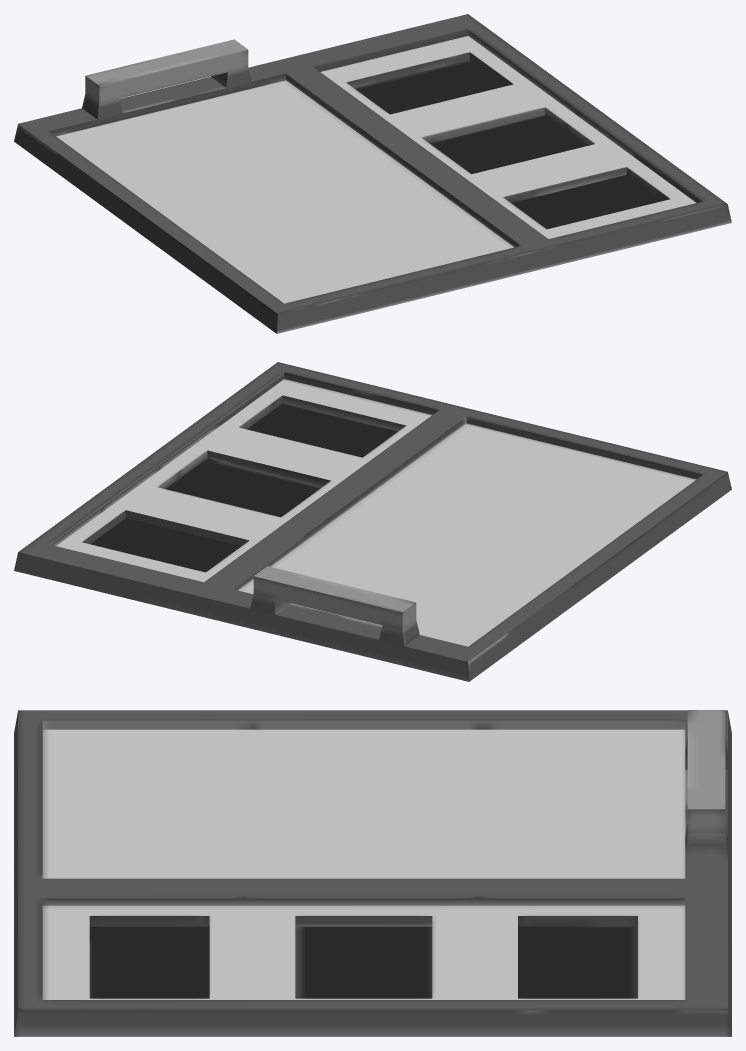
The model's file is Panel_C.fbx.
3 renders of one model, top to bottom at view 1: azimuth 30°, elevation 25°; view 2: azimuth 150°, elevation 25°; view 3: azimuth 270°, elevation 25°, orthographic. The views are drawn at different scales.
Parts seen in each view (by area): view 1: Panel_C; view 2: Panel_C; view 3: Panel_C.
Boxes of the visible parts, x1=… form: Panel_C: x1=14, y1=14, x2=731, y2=333; Panel_C: x1=14, y1=362, x2=731, y2=681; Panel_C: x1=14, y1=710, x2=731, y2=1036.
Size of the model in its own units: 200 by 21.33 by 200.
